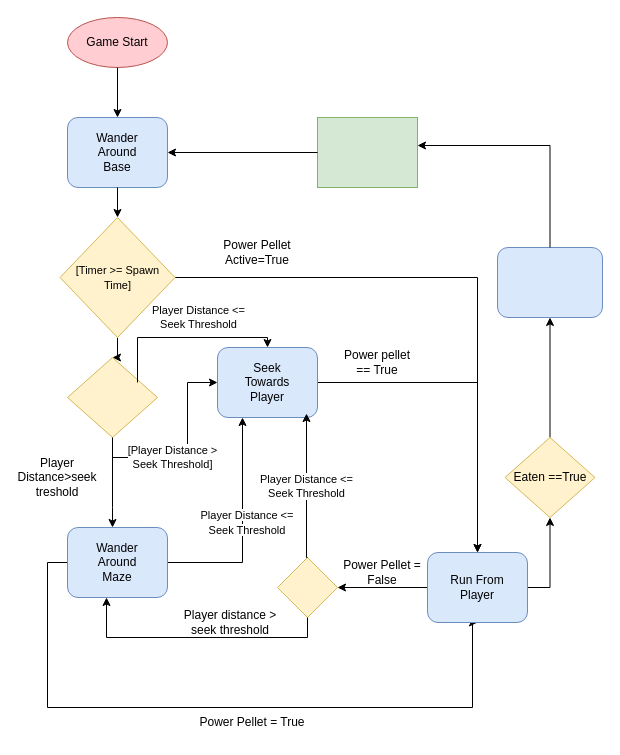
The diagram is 620 pixels wide and 755 high, and some of its shapes have lost their labels. The shapes that lost their labels are listed below. From the top down, each one's box as (x1, y1, x2, y2) in pixels, then its label:
(316, 116, 418, 188): Eaten = False, Timer= 0
(496, 246, 602, 318): Return To Base
(66, 356, 158, 438): [Power Pellet Active == False]
